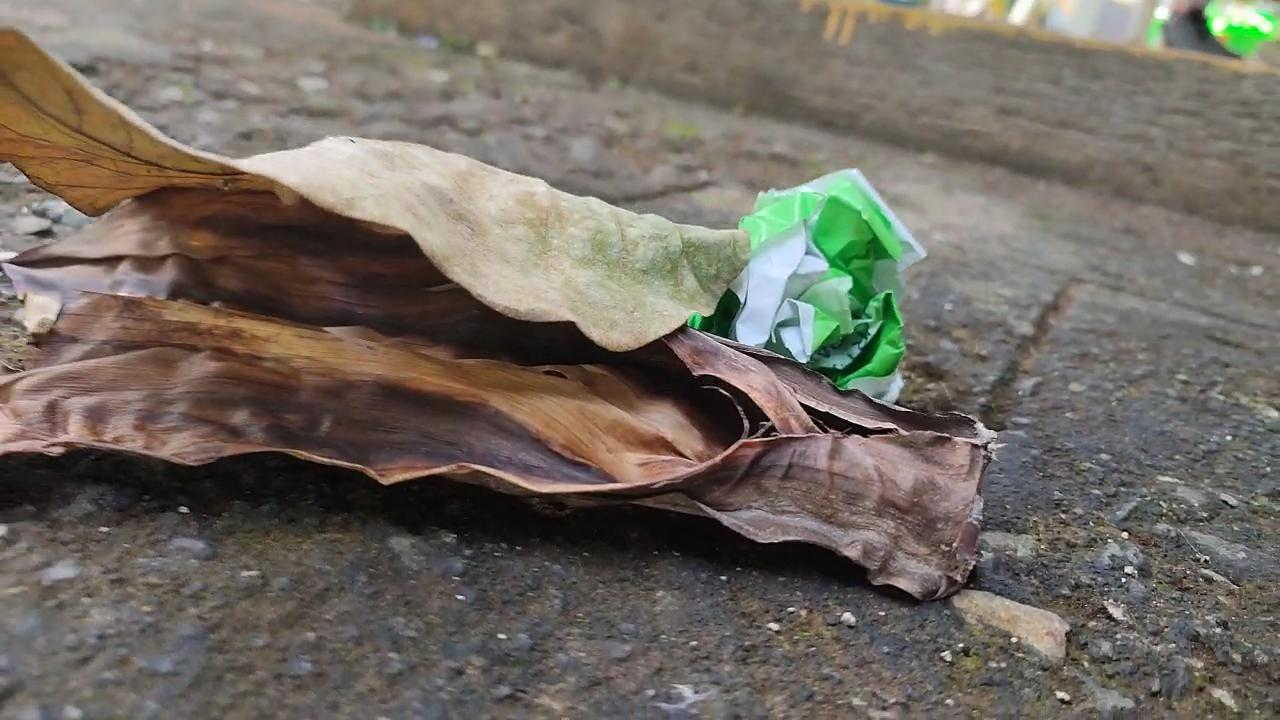Paper: (731, 155, 916, 405)
